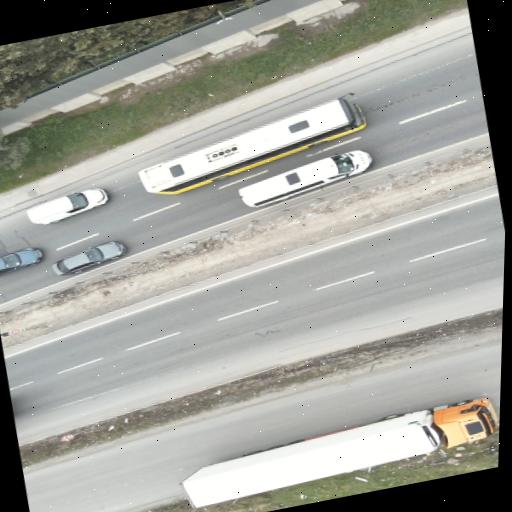bus: (140, 95, 365, 194), (238, 149, 371, 206)
car: (27, 189, 108, 224), (53, 242, 126, 275), (0, 248, 42, 276)
truck: (181, 399, 497, 507)
